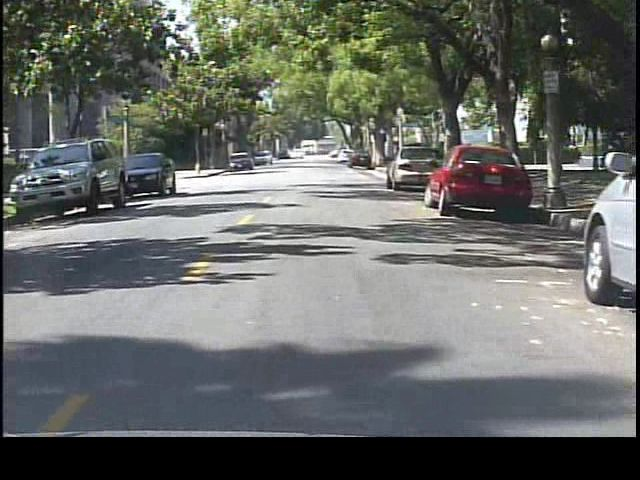car: (413, 148, 549, 230), (13, 140, 126, 217), (119, 145, 178, 195)
strada: (137, 160, 426, 435)
